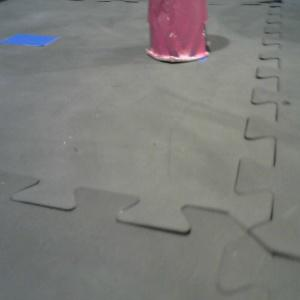Right: (146, 1, 212, 61)
